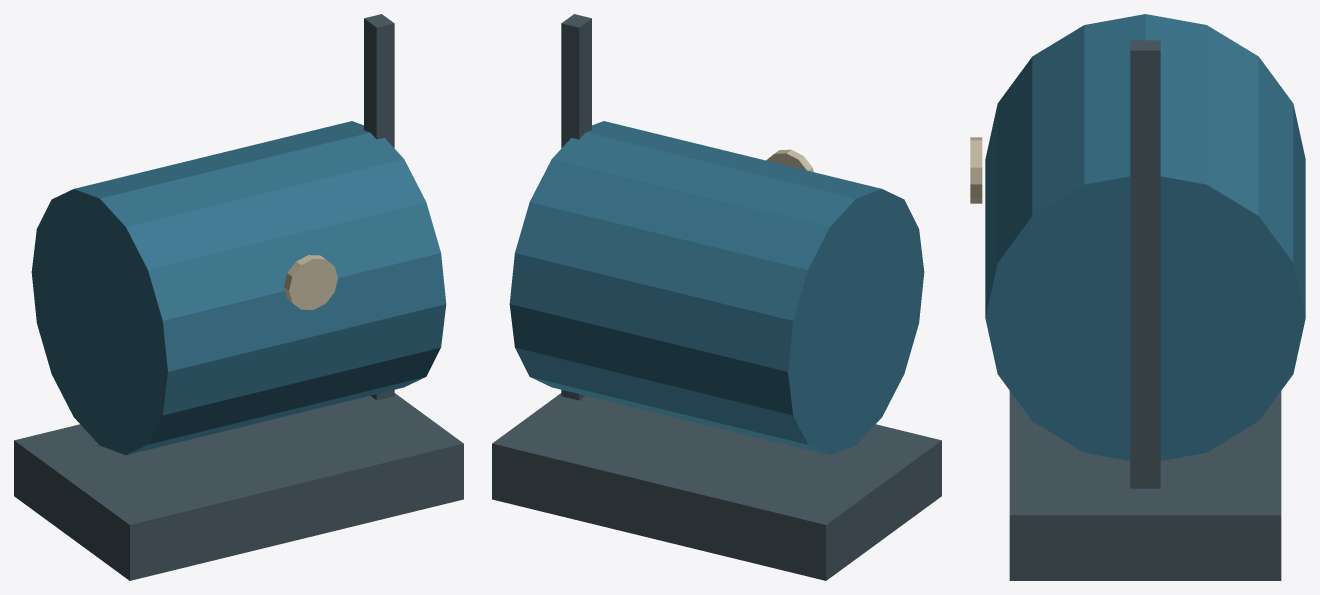
The model's file is large_compressor.glb.
3 renders of one model, left to right at view 1: azimuth 30°, elevation 25°; view 2: azimuth 150°, elevation 25°; view 3: azimuth 270°, elevation 25°, orthographic. The views are drawn at different scales.
Visible parts, largest first — view 1: large_compressor; view 2: large_compressor; view 3: large_compressor.
Boxes of the visible parts, left/top/right/bottom form: large_compressor: left=14, top=14, right=463, bottom=580; large_compressor: left=492, top=14, right=941, bottom=580; large_compressor: left=970, top=14, right=1305, bottom=580.
Bounding box in the file's own units: 1.5 × 1.9 × 1.11.
